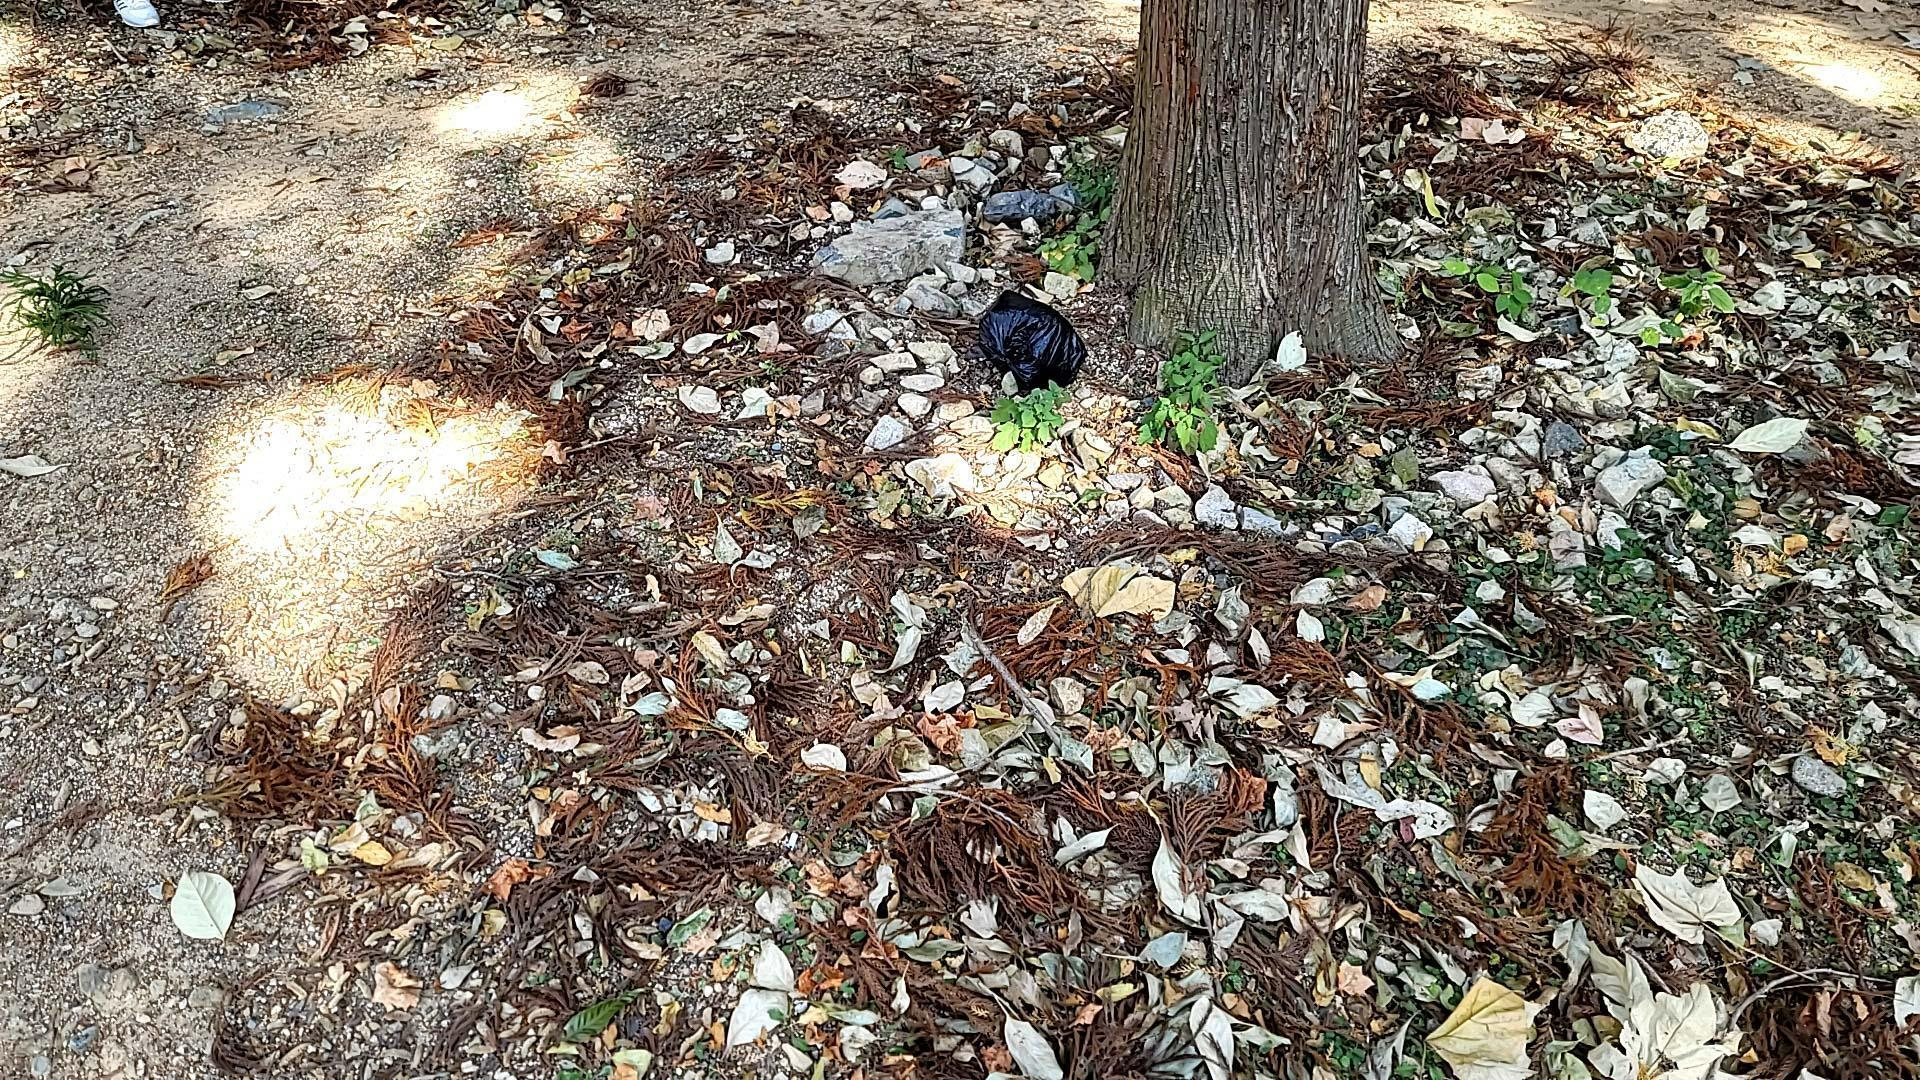white_bag: (967, 284, 1091, 400)
